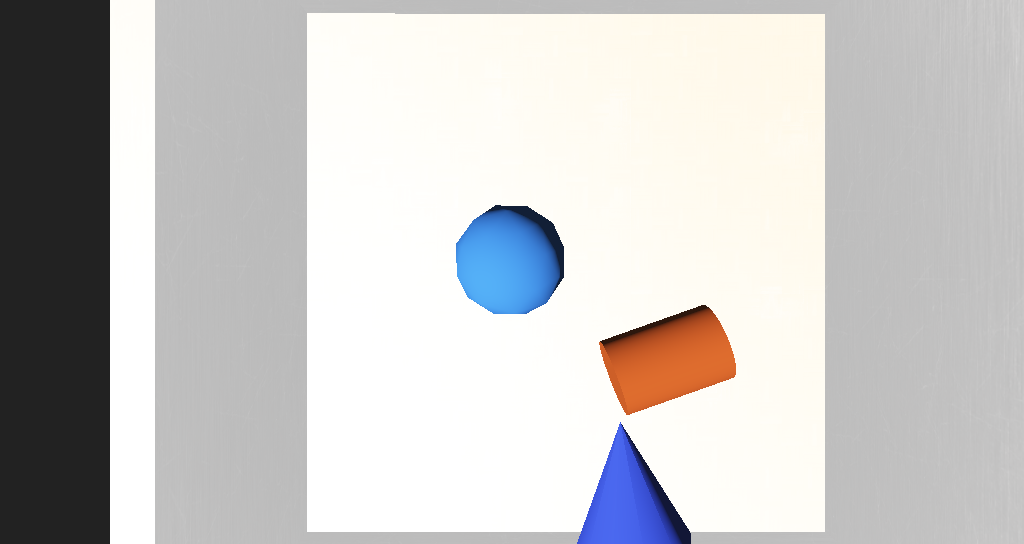cone: (529, 284, 603, 327)
cylinder: (505, 322, 573, 384)
sphere: (438, 239, 505, 286)
